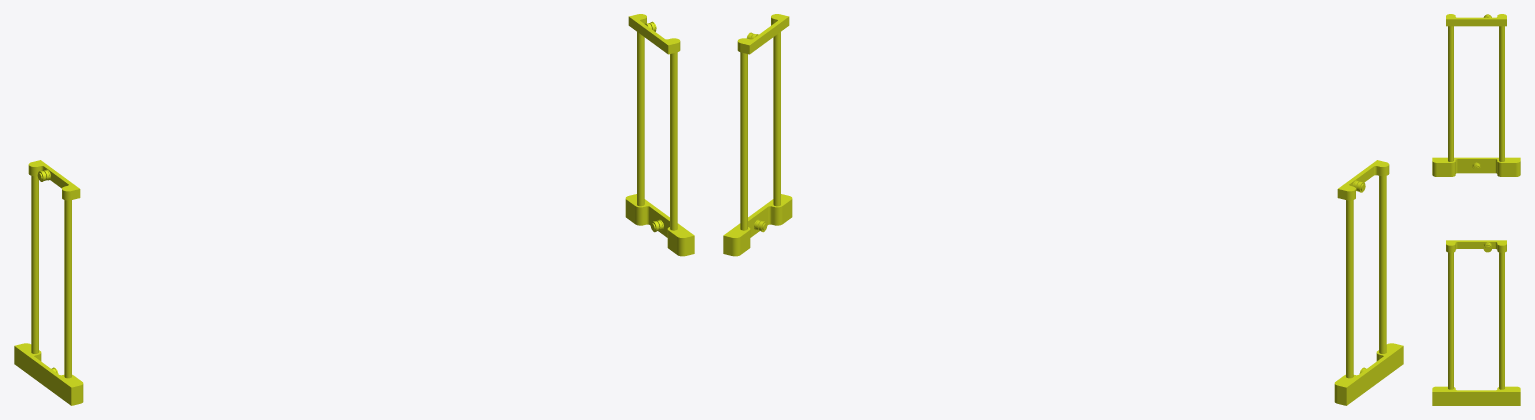
The picture shows the model from 3 angles, left to right: view 1: azimuth 30°, elevation 25°; view 2: azimuth 150°, elevation 25°; view 3: azimuth 270°, elevation 25°; orthographic projection. The views are drawn at different scales.
Visible parts, largest first — view 1: id35, id11, id26, id2, id29, id5, id8, id32; view 2: id35, id11, id29, id5, id26, id2, id8, id32; view 3: id11, id35, id2, id5, id26, id29, id32, id8.
Boxes of the visible parts, bbox=[...] form: id35: bbox=[14, 343, 83, 405]; id11: bbox=[625, 194, 694, 256]; id26: bbox=[64, 200, 71, 378]; id2: bbox=[670, 52, 677, 230]; id29: bbox=[31, 176, 38, 353]; id5: bbox=[637, 32, 644, 206]; id8: bbox=[628, 14, 680, 54]; id32: bbox=[28, 160, 80, 200]; id35: bbox=[1334, 343, 1403, 405]; id11: bbox=[723, 194, 792, 256]; id29: bbox=[1346, 200, 1353, 378]; id5: bbox=[740, 52, 747, 230]; id26: bbox=[1379, 176, 1386, 353]; id2: bbox=[773, 32, 780, 206]; id8: bbox=[737, 14, 789, 54]; id32: bbox=[1337, 160, 1389, 200]; id11: bbox=[1432, 386, 1520, 405]; id35: bbox=[1432, 157, 1520, 176]; id2: bbox=[1448, 252, 1453, 389]; id5: bbox=[1499, 252, 1504, 389]; id26: bbox=[1448, 26, 1453, 161]; id29: bbox=[1499, 26, 1504, 161]; id32: bbox=[1446, 14, 1506, 26]; id8: bbox=[1446, 240, 1506, 252].
Bounding box in the file's own units: 0.9049 × 0.2868 × 0.1438.
